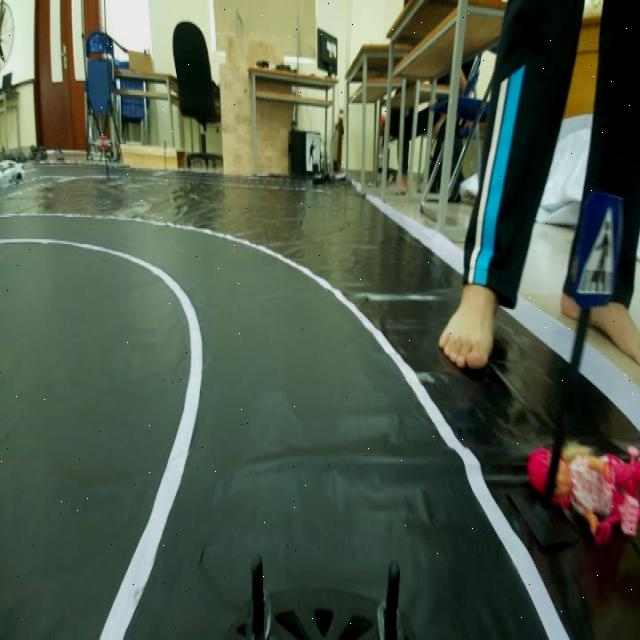crosswalk: (559, 185, 634, 311)
